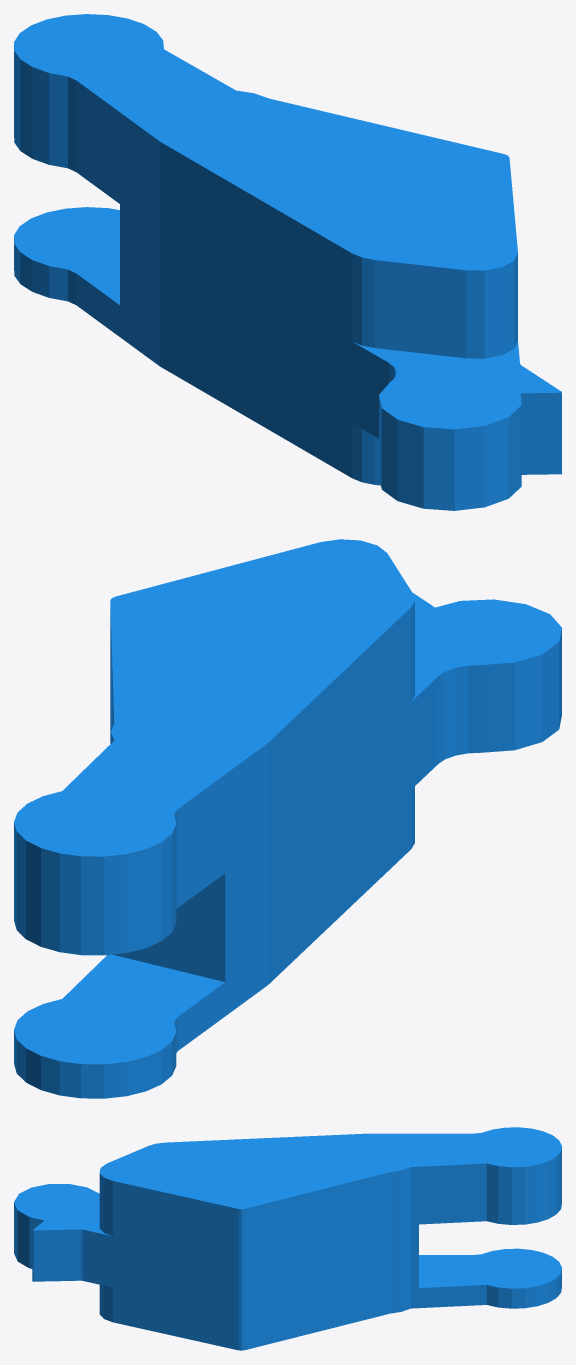
Rendered from LLEG_LINK3_mesh.dae.
The picture shows the model from 3 angles, top to bottom: view 1: azimuth 30°, elevation 25°; view 2: azimuth 150°, elevation 25°; view 3: azimuth 270°, elevation 25°; orthographic projection. The views are drawn at different scales.
Visible parts, largest first — view 1: LLEG_LINK3; view 2: LLEG_LINK3; view 3: LLEG_LINK3.
Boxes of the visible parts, x1=… form: LLEG_LINK3: x1=14, y1=14, x2=561, y2=510; LLEG_LINK3: x1=14, y1=539, x2=561, y2=1098; LLEG_LINK3: x1=14, y1=1127, x2=561, y2=1350.
Bounding box in the file's own units: 0.1491 × 0.123 × 0.4214.
